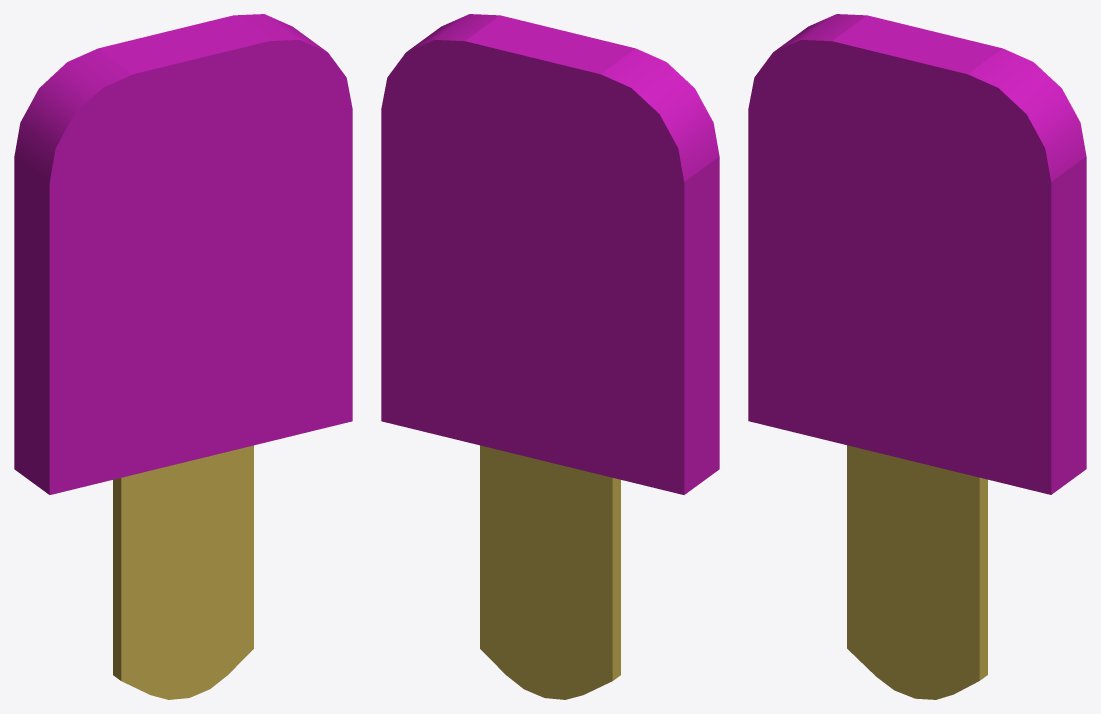
The model's file is ice_3.fbx.
The picture shows the model from 3 angles, left to right: view 1: azimuth 30°, elevation 25°; view 2: azimuth 150°, elevation 25°; view 3: azimuth 330°, elevation 25°; orthographic projection.
Visible parts, largest first — view 1: ice_3; view 2: ice_3; view 3: ice_3.
Part boxes in pixels (left/top/right/bottom): ice_3: left=14, top=14, right=352, bottom=699; ice_3: left=381, top=14, right=719, bottom=699; ice_3: left=748, top=14, right=1086, bottom=699.
Size of the model in its own units: 65.86 by 135 by 13.31.
